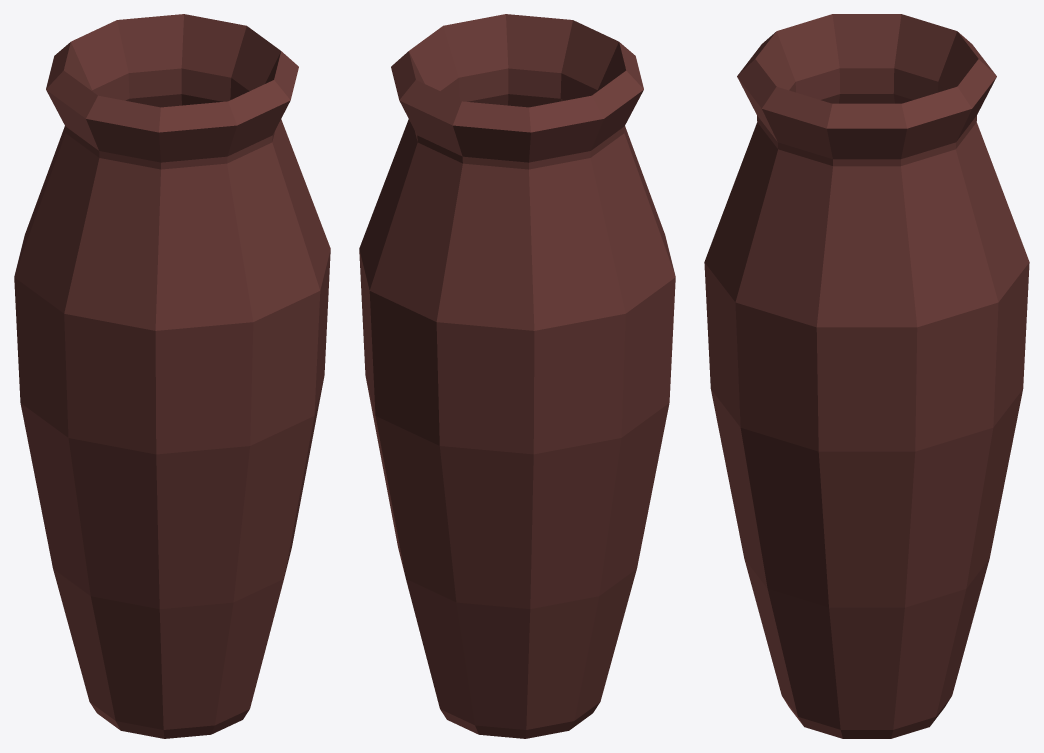
Rendered from Large_Pot_v002.fbx.
3 renders of one model, left to right at view 1: azimuth 30°, elevation 25°; view 2: azimuth 150°, elevation 25°; view 3: azimuth 270°, elevation 25°, orthographic.
Visible parts, largest first — view 1: Cylinder; view 2: Cylinder; view 3: Cylinder.
Boxes of the visible parts, <box> form: Cylinder: <box>14,14,330,738</box>; Cylinder: <box>359,14,675,738</box>; Cylinder: <box>704,14,1029,738</box>.
Size of the model in its own units: 2.85 by 6.61 by 3.
